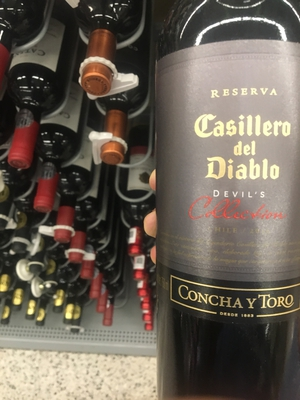casillero del diablo devils collection rojo: (143, 11, 300, 387)
